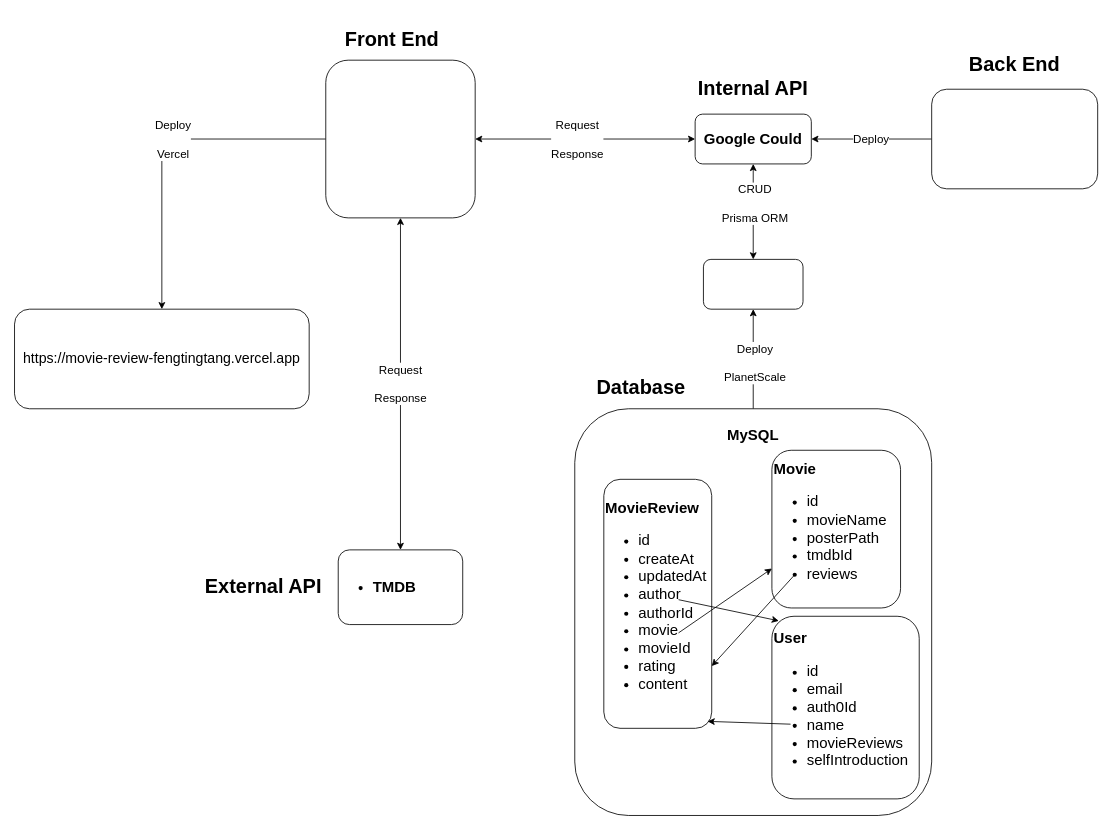
The diagram is 1112 pixels wide and 830 high, and some of its shapes have lost their labels. The centre of each missing label's shape, as x and y in pixels:
"AWS" goes at pixel 753 284.
"JavaScript ExpressJS Prisma ORM" goes at pixel 1014 138.
"JavaScript HTML CSS React React Router" goes at pixel 400 138.
